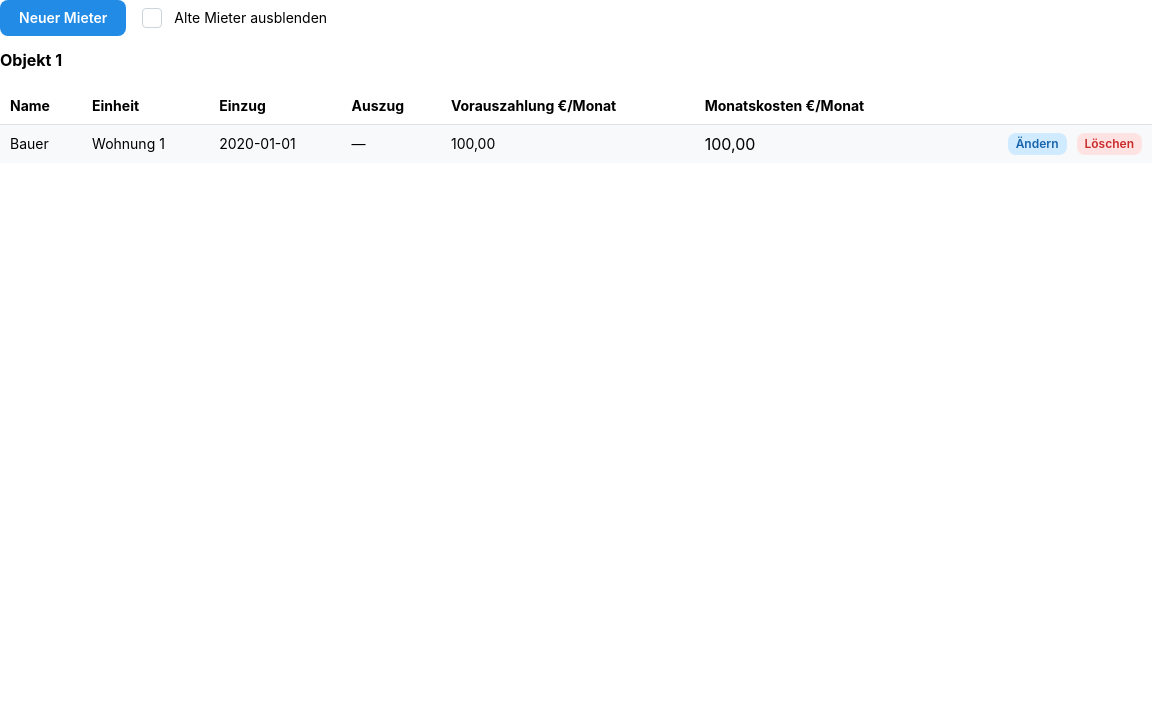
Scenario: TenantsTab › setzt Vorauszahlungsänderungen automatisch auf den Monatsanfang
The image size is (1152, 720).
Click the button "Ändern". click: (1037, 144)
box: 1008,133 -> 1066,155
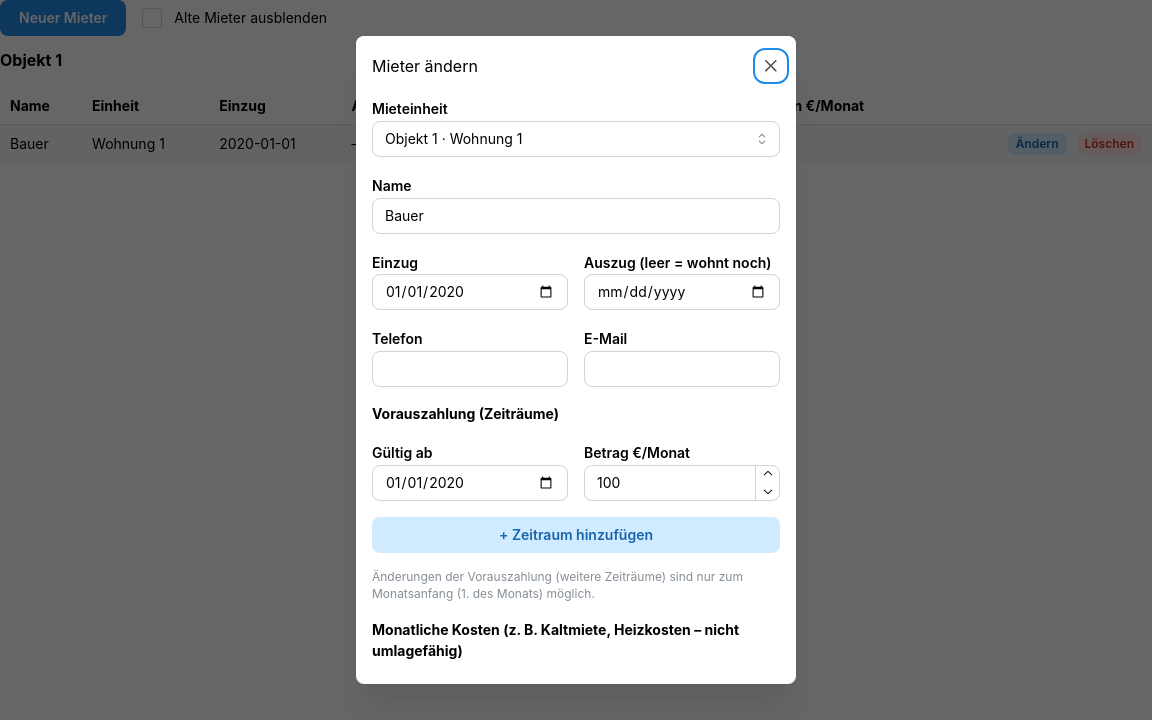
# Vorauszahlungs-Zeitraum hinzufügen
Click the button "+ Zeitraum hinzufügen". click: (576, 535)
box: 372,517 -> 780,553
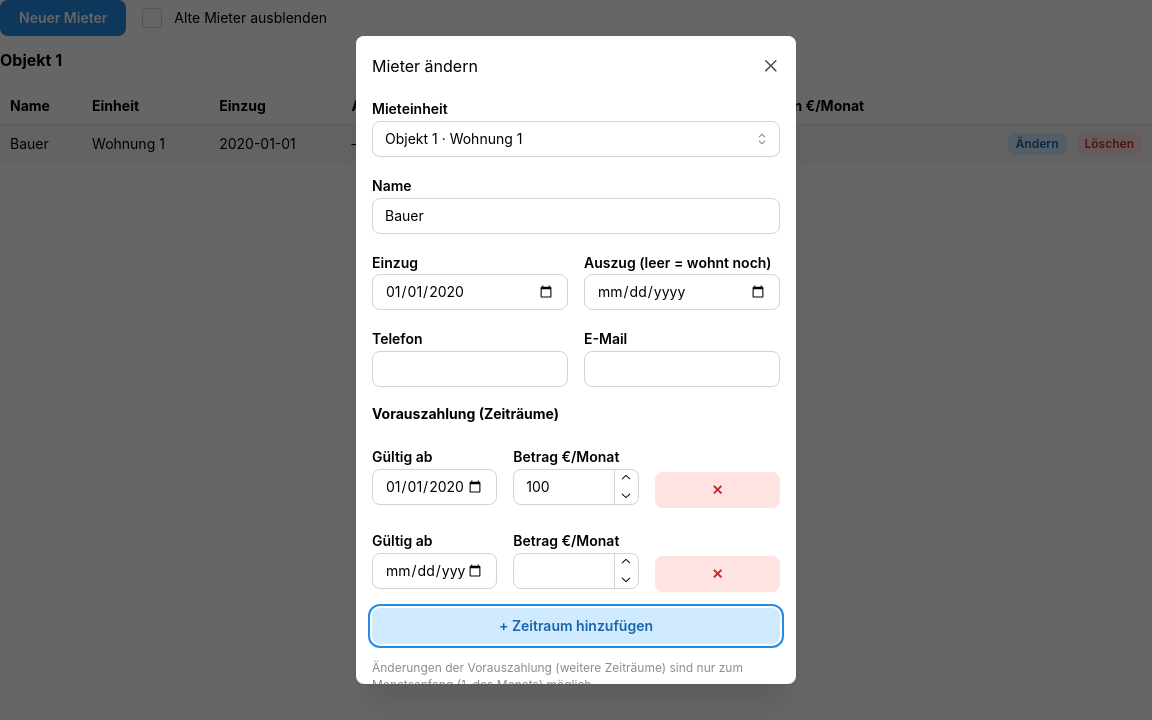
Expected: the number of date fields labelled "Gültig ab" is 2
# Mitte des Monats eintragen → wird auf den 1. des Monats gesetzt
Type "2025-10-15" into the 2nd date field labelled "Gültig ab". click: (435, 571)
box: 372,553 -> 497,589
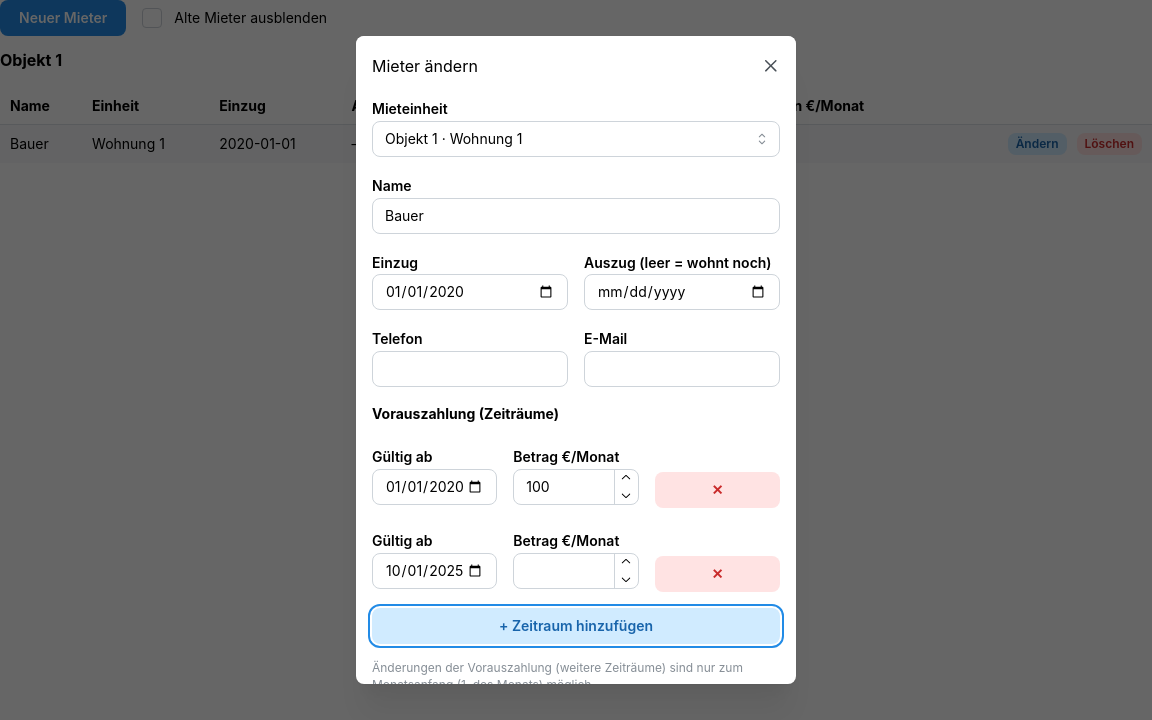
Expected: the 2nd date field labelled "Gültig ab" holds "2025-10-01", 372,553 -> 497,589
